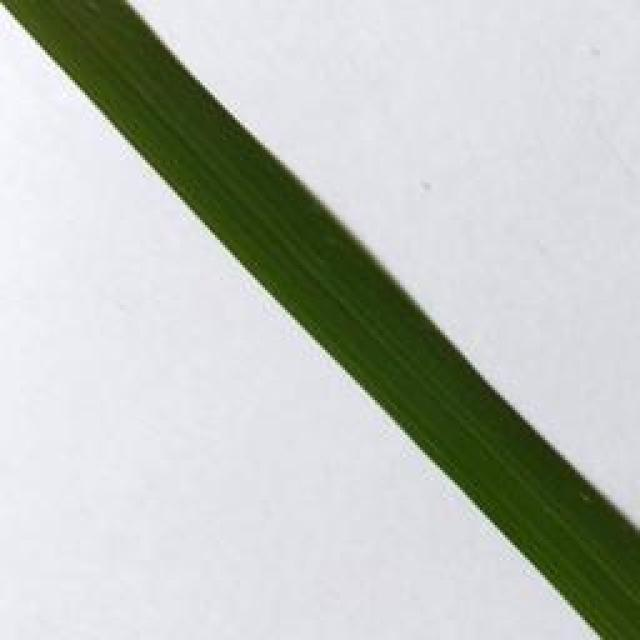Healthy: (2, 0, 640, 640)
